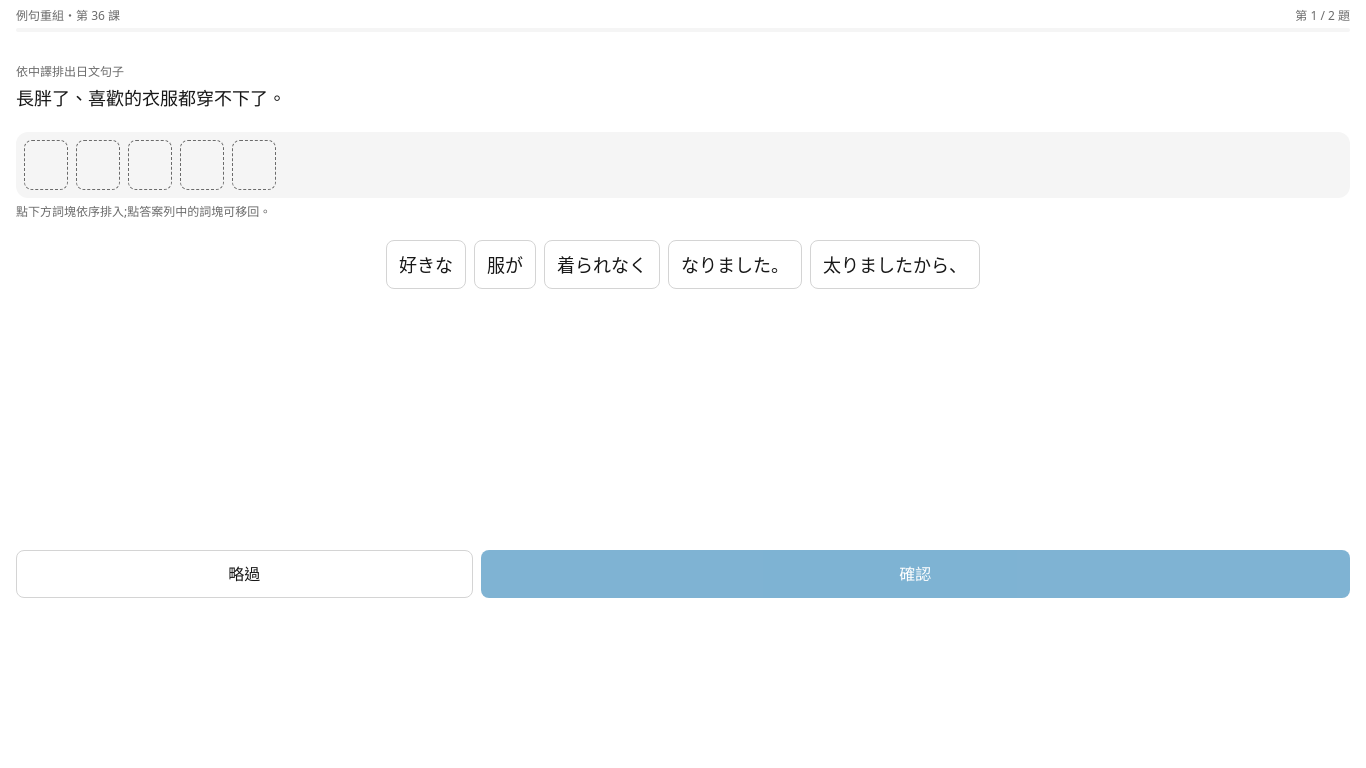
Scenario: ReorderRunner 題目 › 點詞塊依序排入答案列,點答案列中的詞塊移回待選區
Check: the text "長胖了、喜歡的衣服都穿不下了。" is shown, box [16,86,286,110]
Click the button "太 りましたから、": coordinates (895, 264) [810,240,980,289]
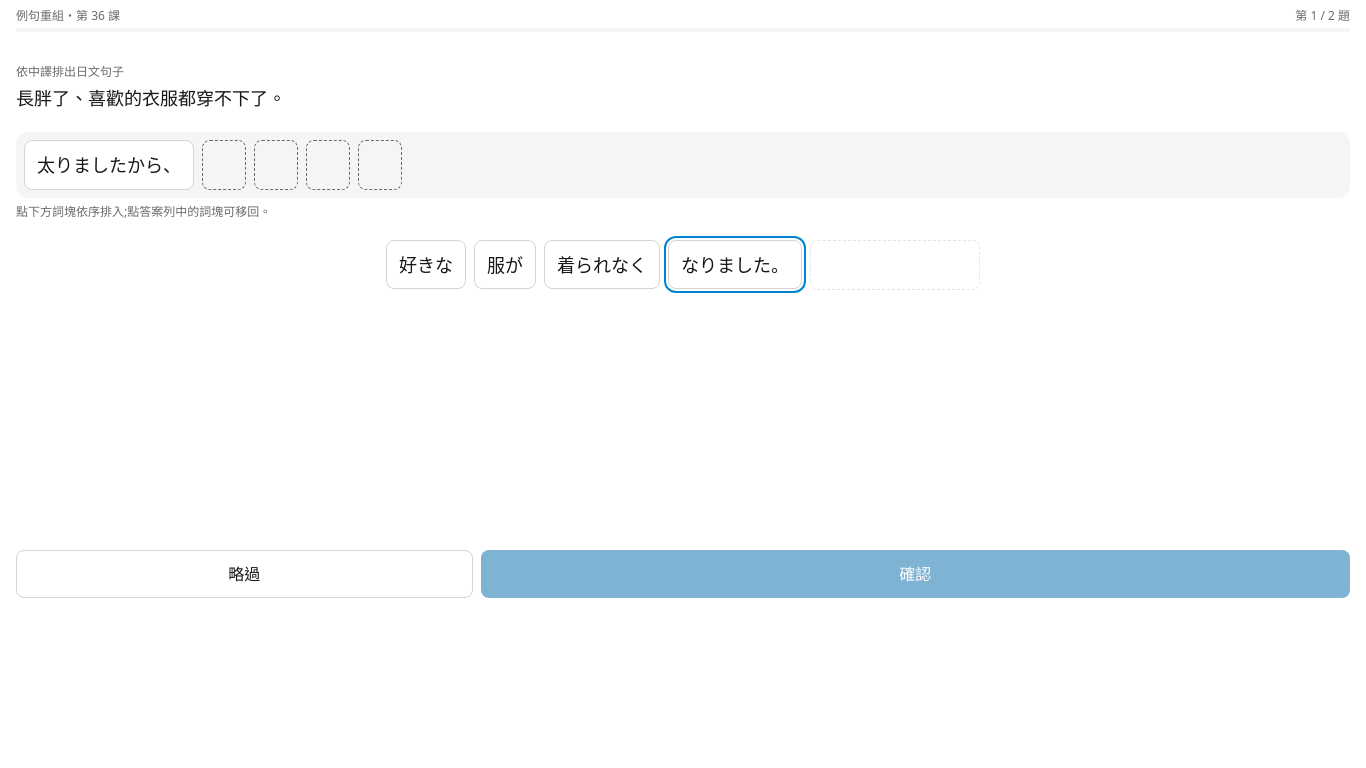
Click the button "好 きな": coordinates (426, 264) [386,240,466,289]
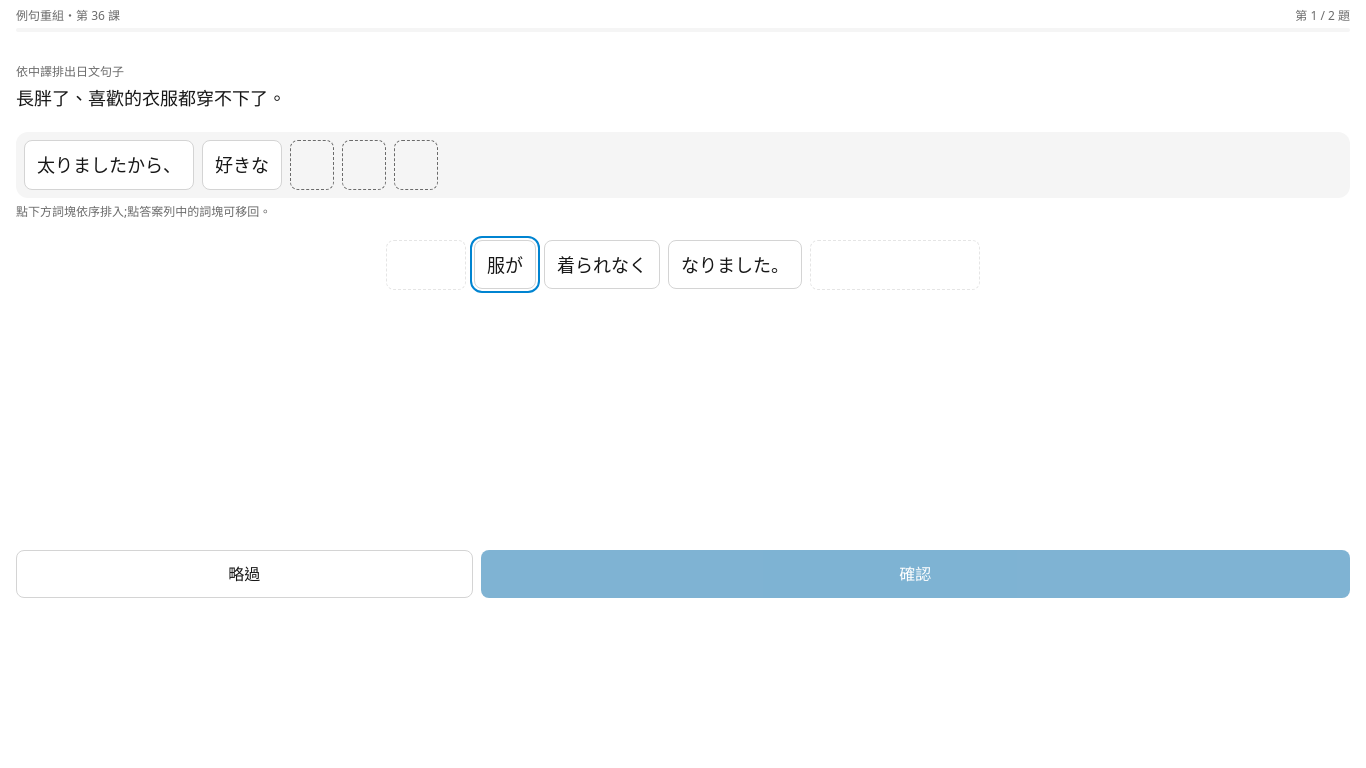
Click the button "服 が": coordinates (505, 264) [474,240,536,289]
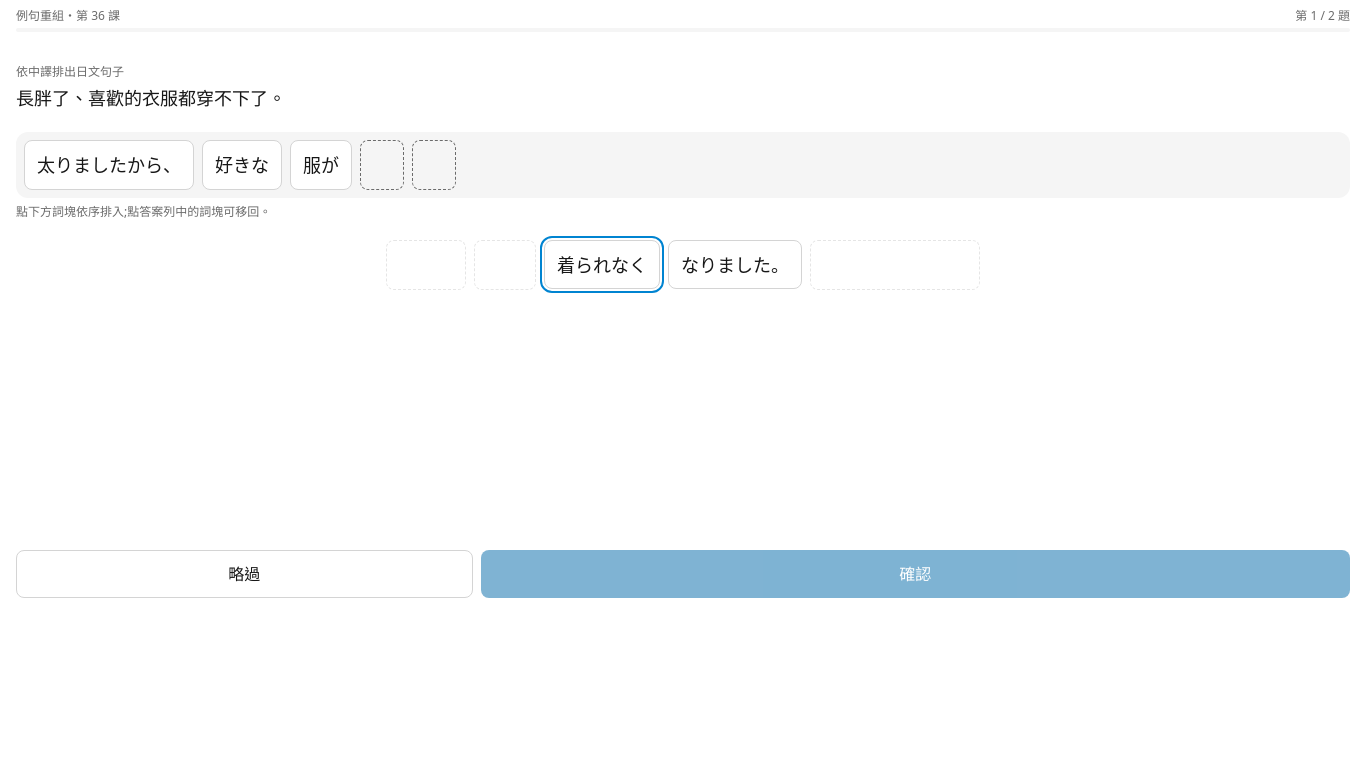
Check: the button "確認" is disabled, box [481,550,1350,598]
Check: the buttons read "太りましたから、", "好きな", "服が", in this order
Click the button "好 きな": coordinates (242, 165) [202,140,282,190]
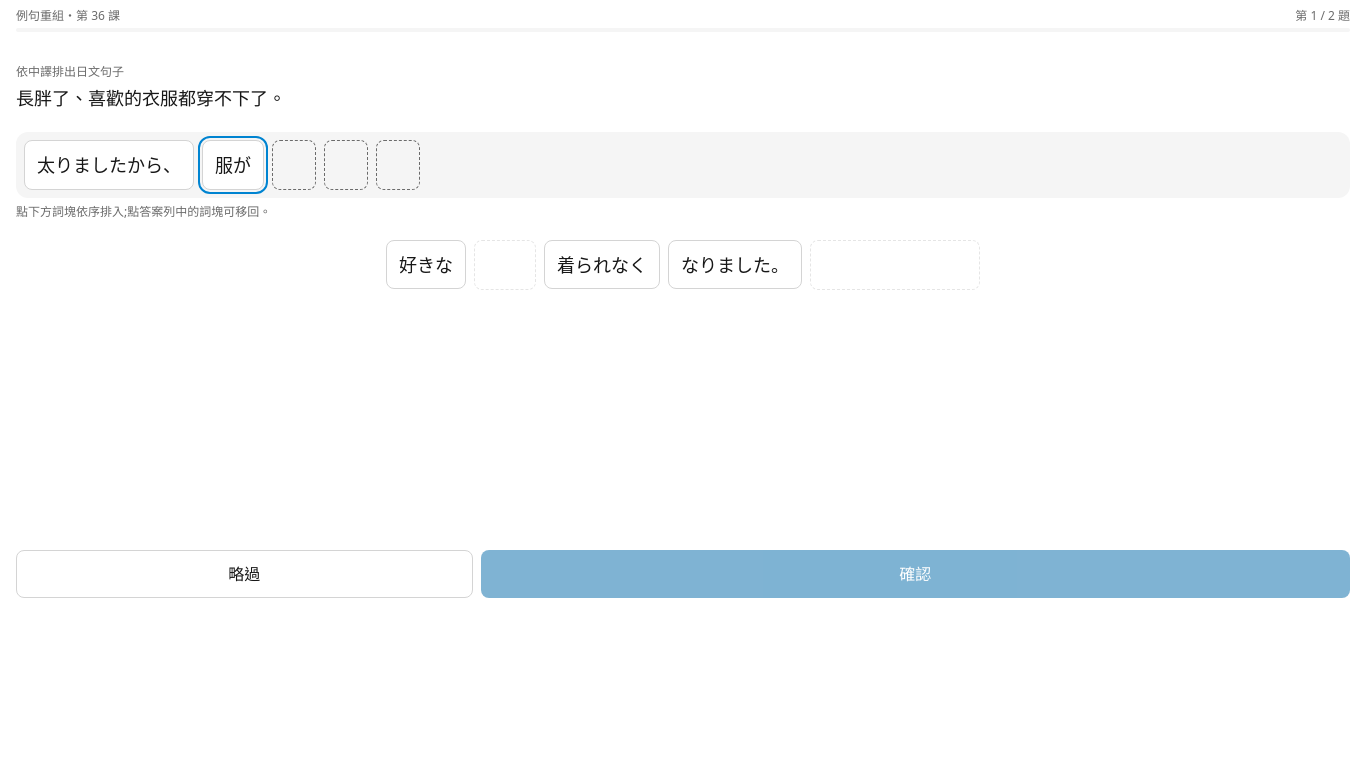
Check: the buttons read "太りましたから、", "服が", in this order, box [24,140,194,190]; [202,140,264,190]
